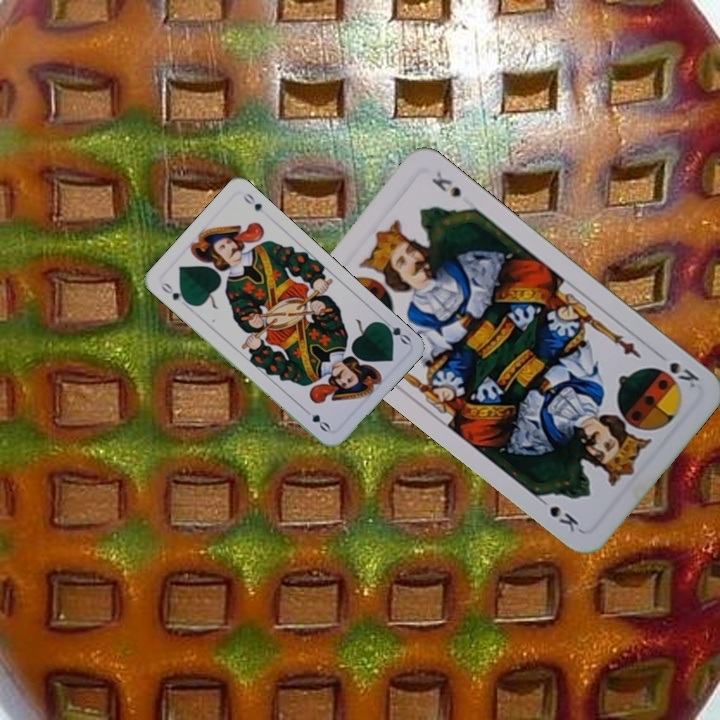GO: (377, 315, 413, 347), (157, 278, 192, 307)
SK: (665, 358, 702, 391)
